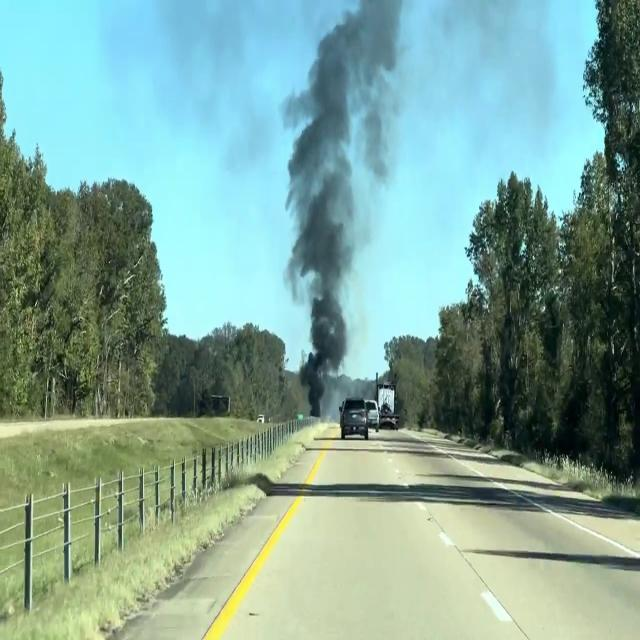Smoke: (279, 1, 407, 390)
